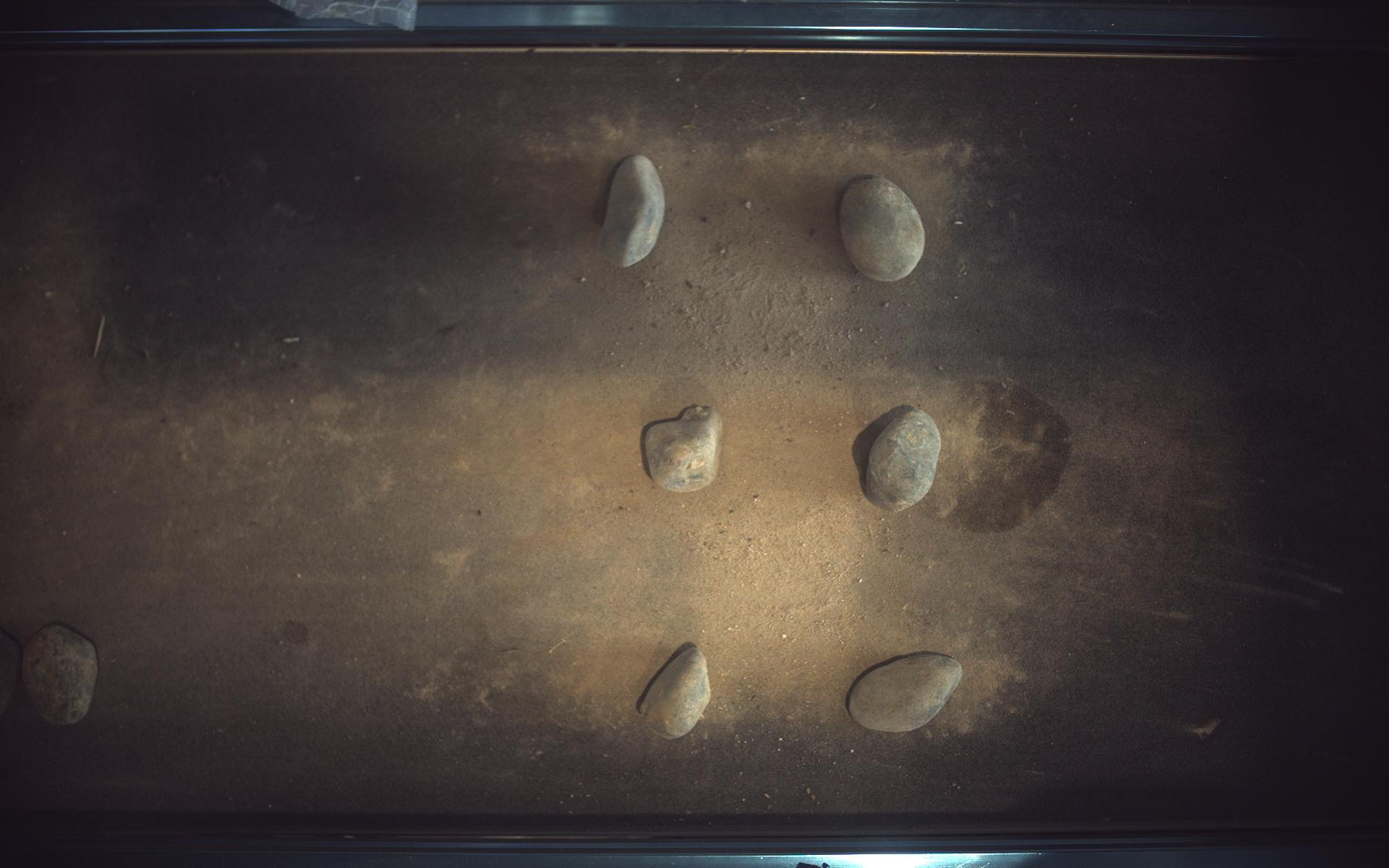stone: (854, 405, 943, 511), (841, 175, 927, 281), (850, 654, 964, 733), (21, 625, 96, 726), (600, 153, 666, 266), (647, 406, 723, 493), (641, 647, 711, 740), (1, 629, 21, 717)
